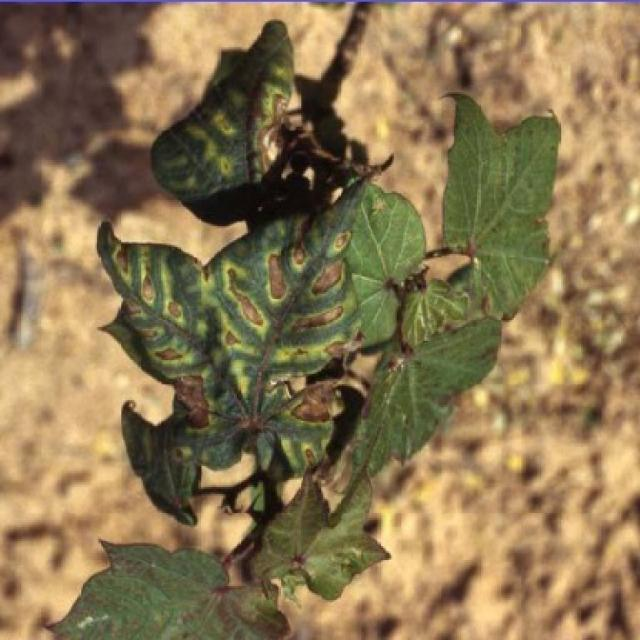Fusarium Wilt: (81, 18, 553, 618)
